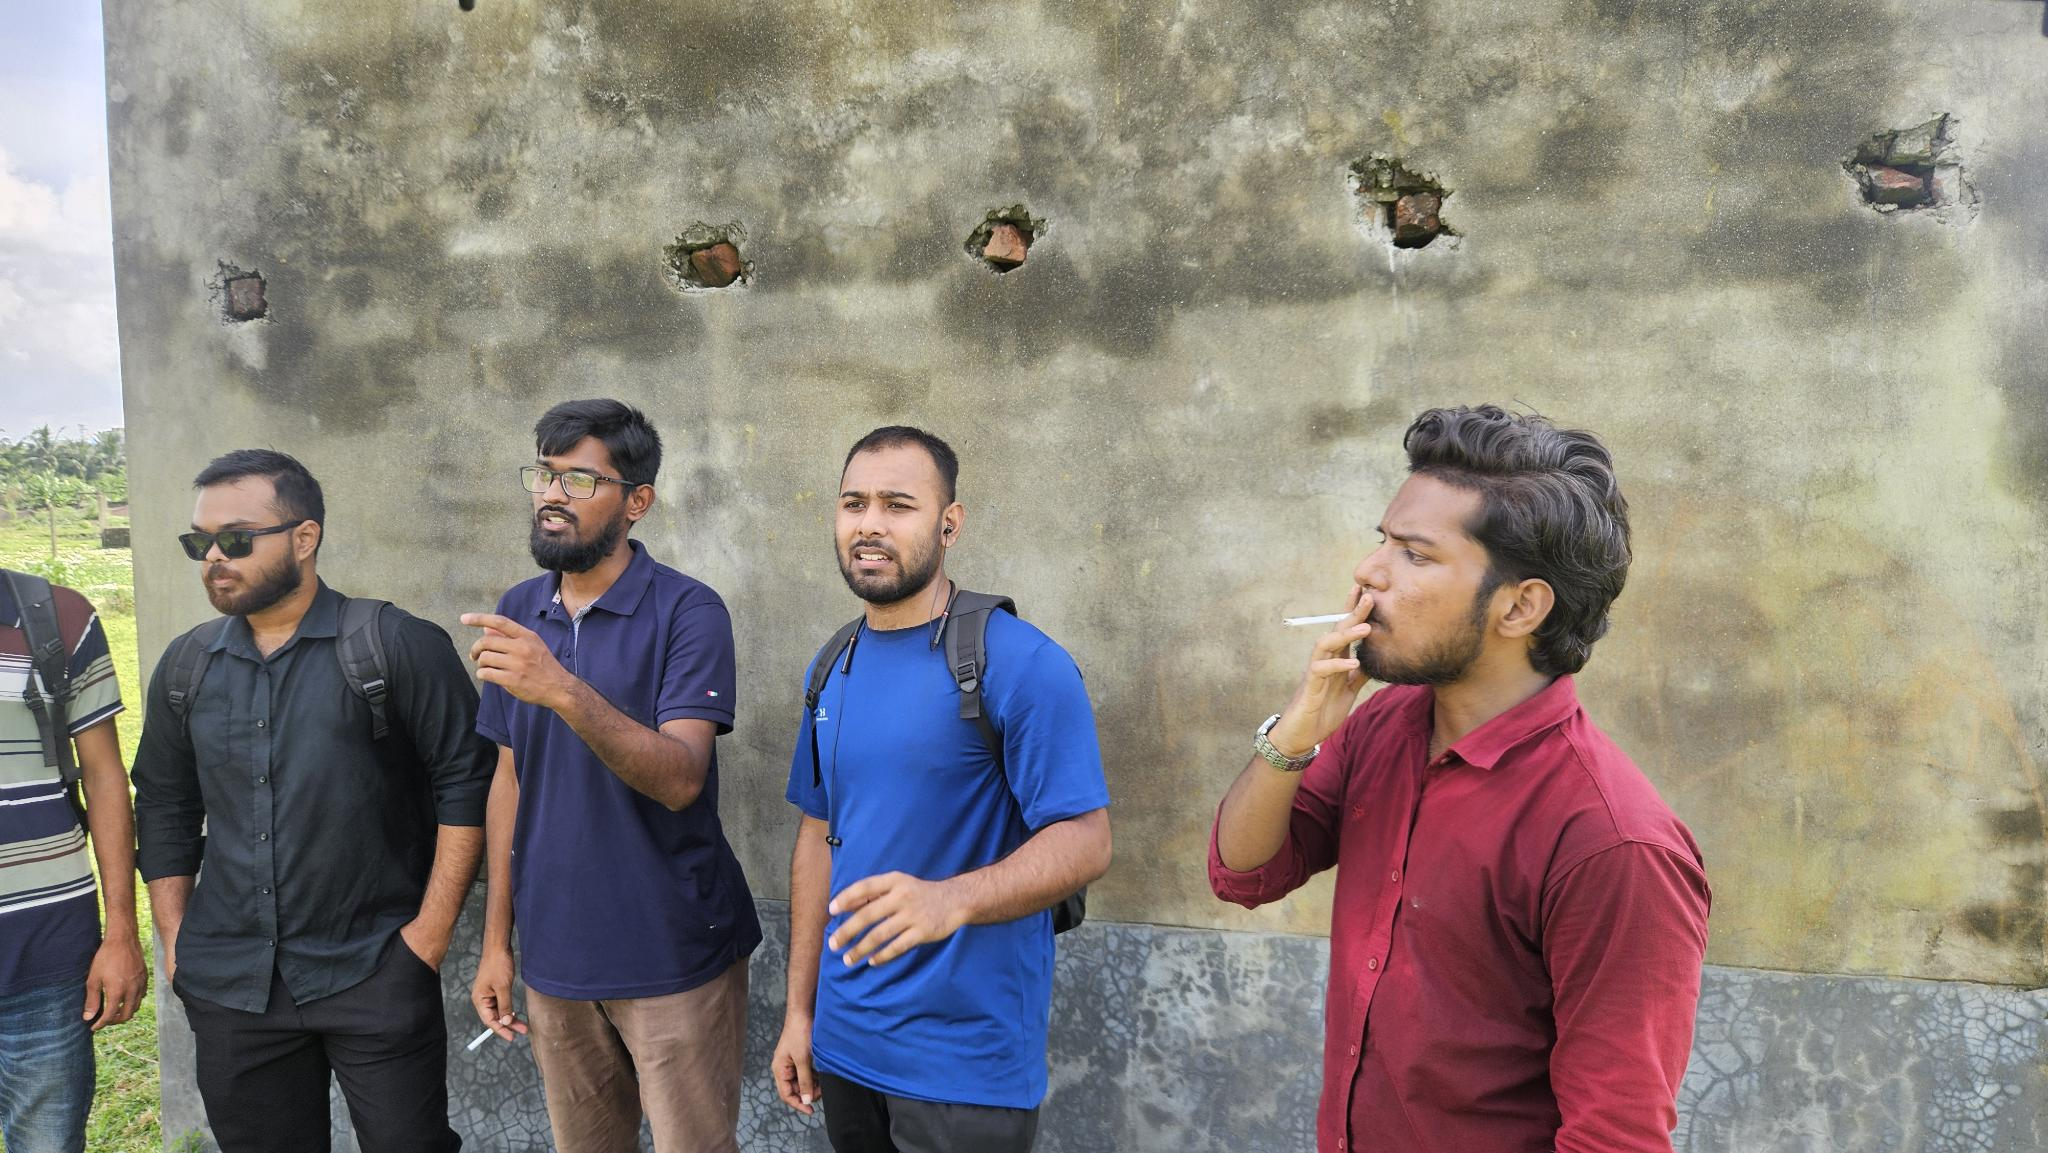cigarette: (1280, 609, 1355, 633), (461, 1026, 494, 1055)
nonSmoker: (772, 423, 1114, 1153), (131, 446, 482, 1153), (0, 561, 148, 1153)
smoker: (1205, 404, 1715, 1153), (459, 397, 753, 1153)
